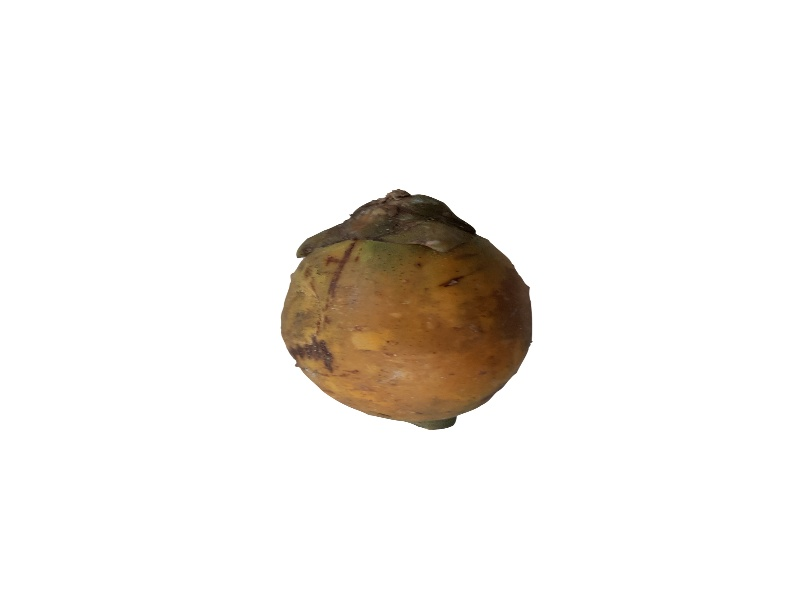arecanut: (278, 191, 545, 442)
